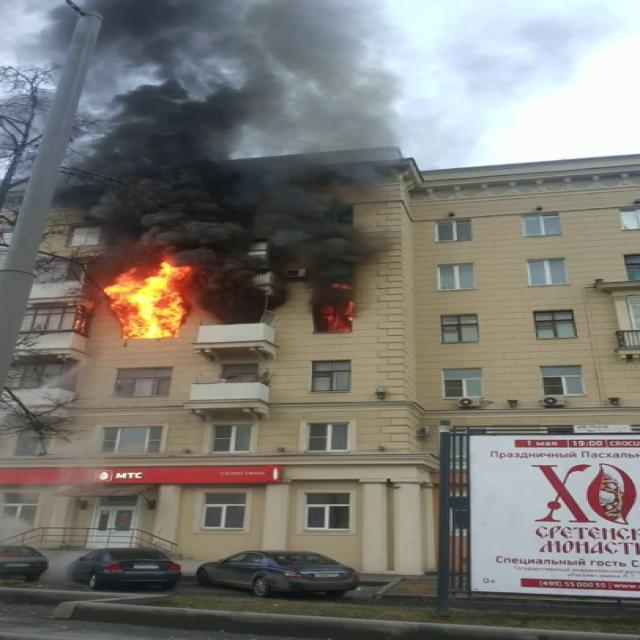Fire: (96, 258, 200, 340), (317, 293, 358, 333)
Smoke: (11, 0, 424, 295)
